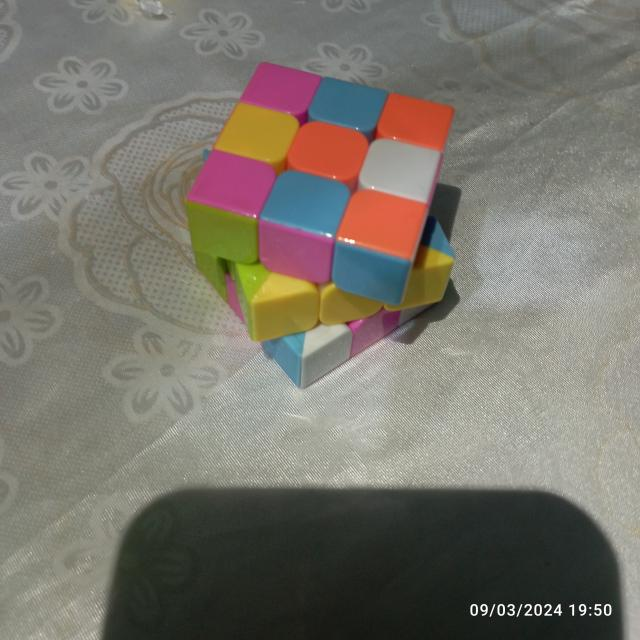Rub: (178, 59, 460, 388)
